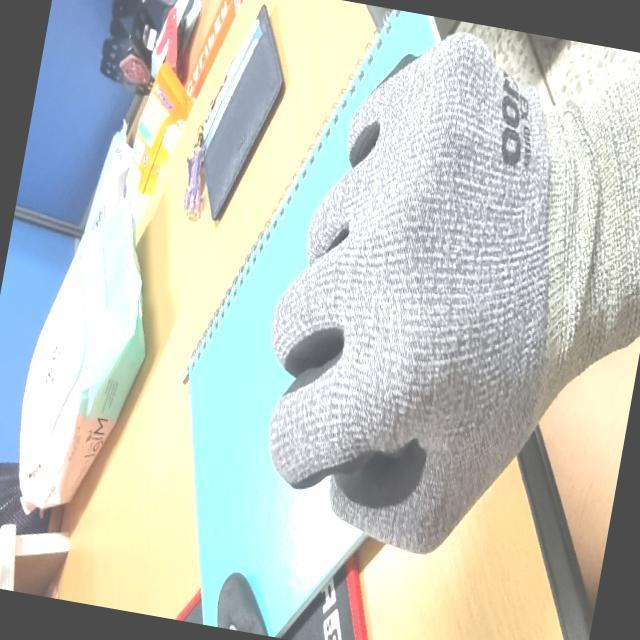Gloves: (288, 32, 640, 556)
